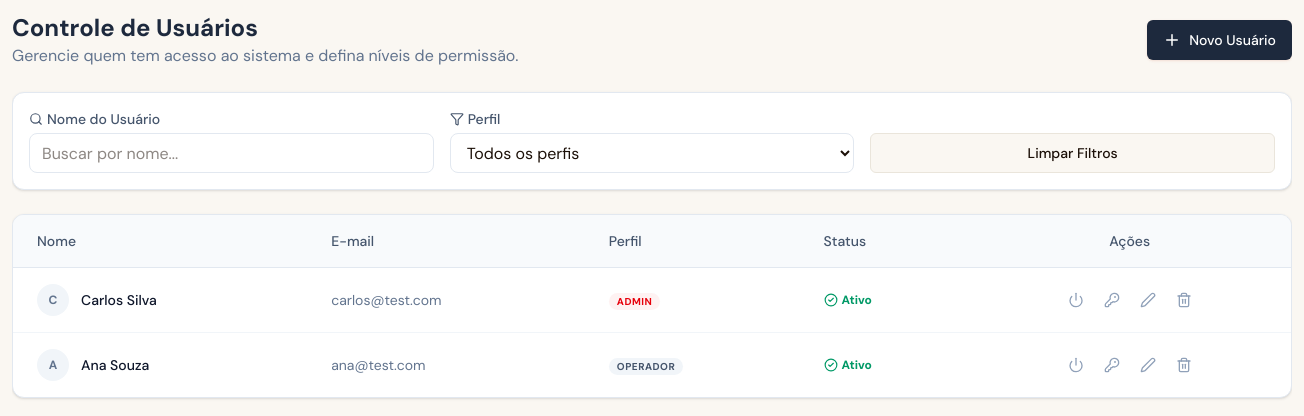
Usuarios Component › filters users by name and profile type
Expected: the text "Carlos Silva" is shown, [81,290,157,310]
Expected: the text "Ana Souza" is shown, [81,355,149,375]
Filter by name
Type "Carlos" into the field with placeholder "Buscar por nome...".
click(231, 153); type("Carlos")  # box [29,133,434,173]
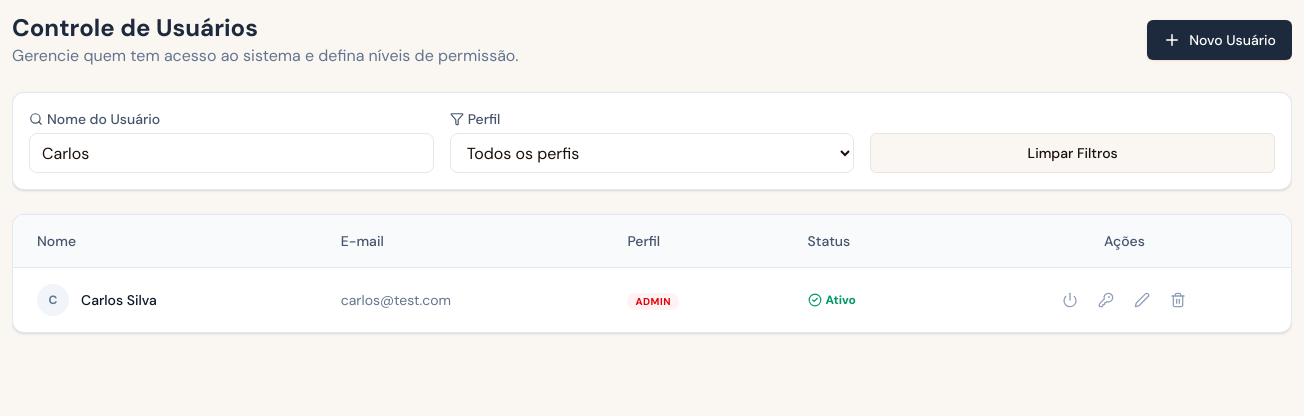
Expected: the text "Carlos Silva" is shown, [81,290,157,310]
Expected: the text "Ana Souza" is gone
Clear filters
Click the button "Limpar Filtros".
click(1073, 153)  # box [870,133,1275,173]
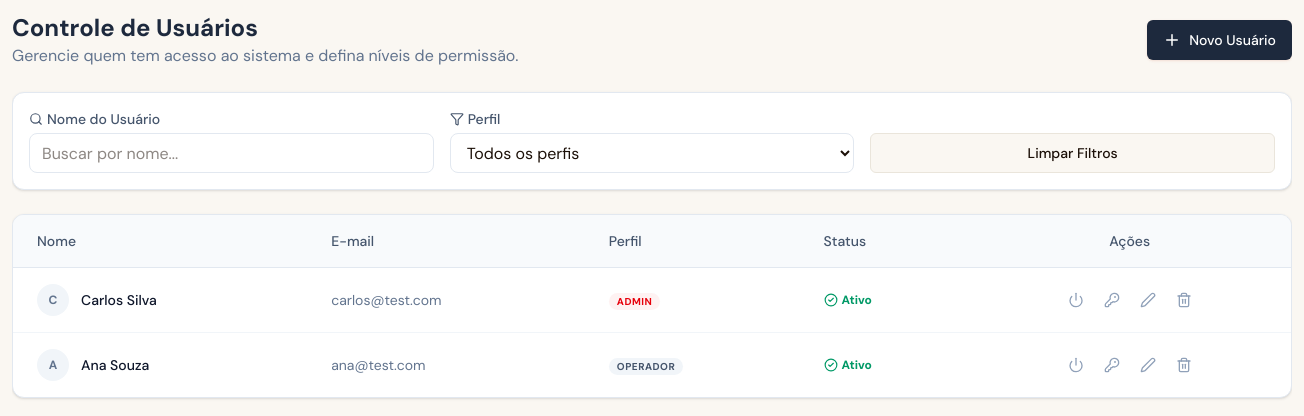
Expected: the text "Carlos Silva" is shown, [81,290,157,310]
Expected: the text "Ana Souza" is shown, [81,355,149,375]
